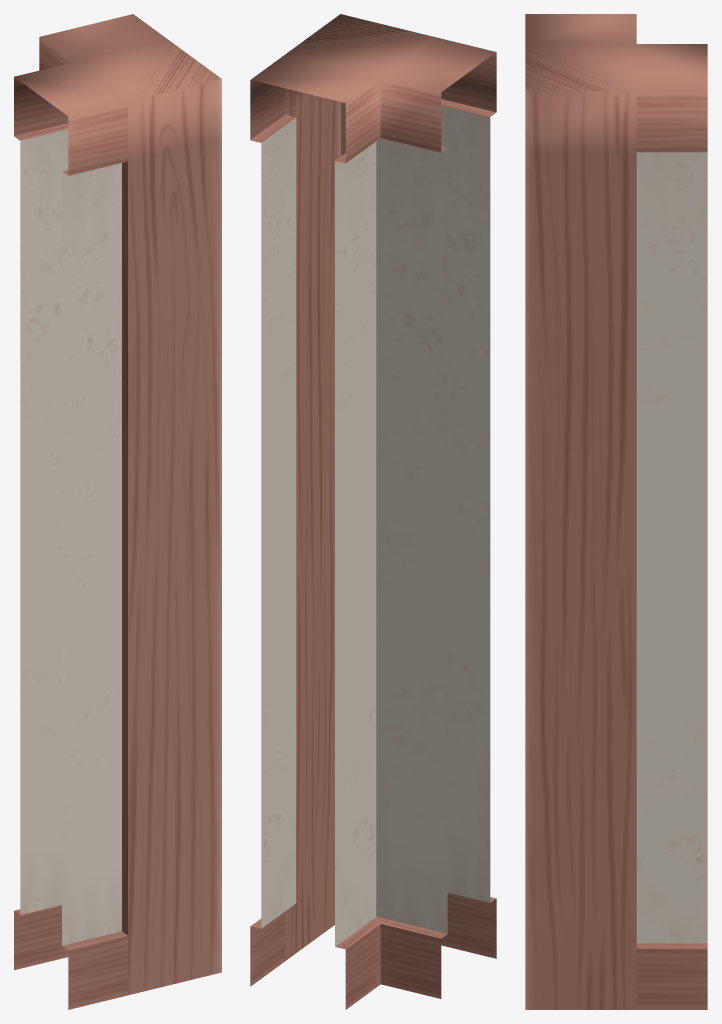
File: paret_cantonada.fbx
3 views of the same model, side by side, from view 1: azimuth 30°, elevation 25°; view 2: azimuth 150°, elevation 25°; view 3: azimuth 270°, elevation 25° (orthographic). The views are drawn at different scales.
Visible parts, largest first — view 1: Pared_Esquina; view 2: Pared_Esquina; view 3: Pared_Esquina.
Boxes of the visible parts, x1,y1,x2,y2 form: Pared_Esquina: (14, 14, 221, 1009); Pared_Esquina: (250, 14, 496, 1009); Pared_Esquina: (525, 14, 707, 1009).
Size of the model in its own units: 72 by 400 by 72.
